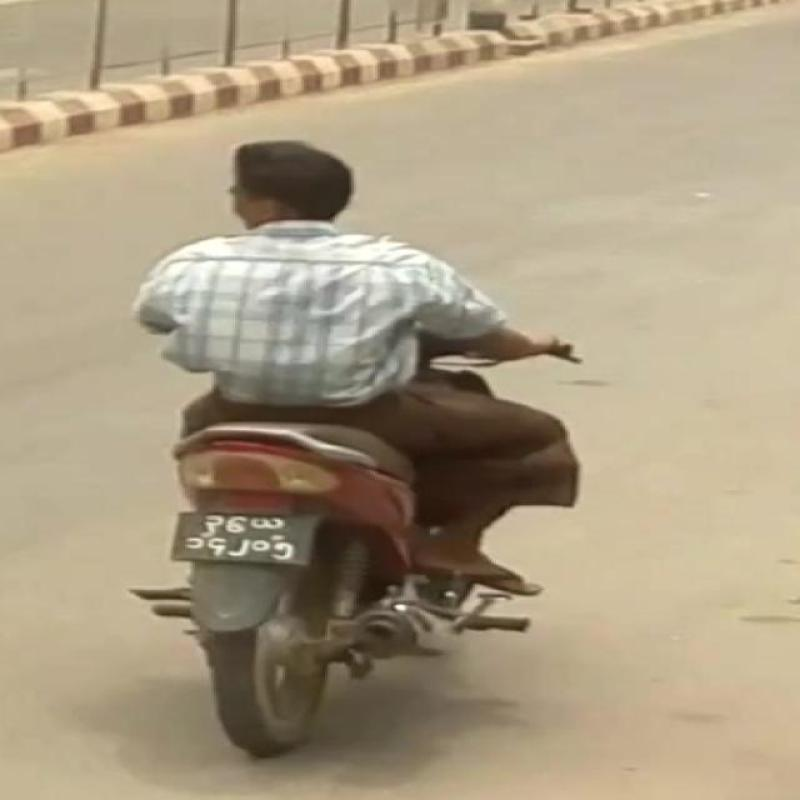nohelmet: (223, 132, 412, 250)
